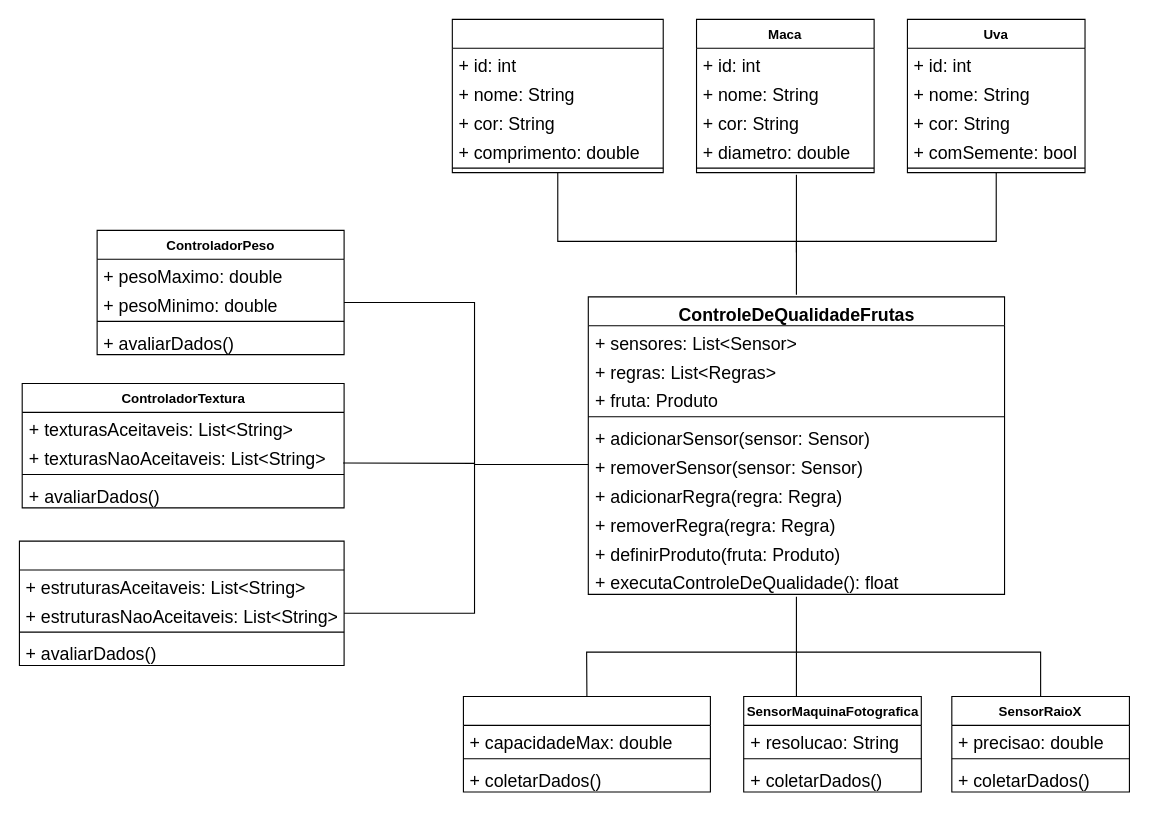
This 1149x815 diagram has some shape labels left out. The box of each missing label's shape, as (x1, y1, x2, y2) in pixels:
Banana: (451, 18, 663, 173)
ControladorEstrutura: (18, 540, 344, 665)
SensorBalanca: (462, 695, 710, 792)
